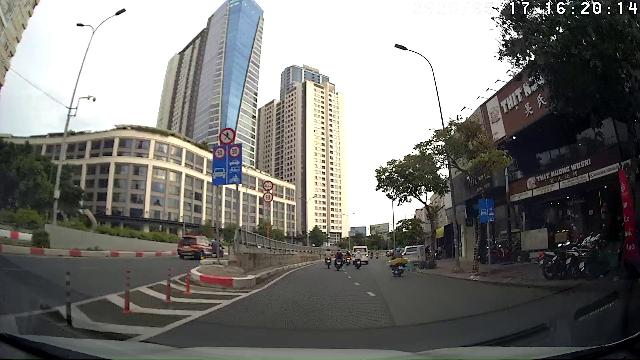127-toc-do-toi-da-50: (214, 146, 227, 160), (229, 145, 241, 158), (263, 191, 274, 203)
